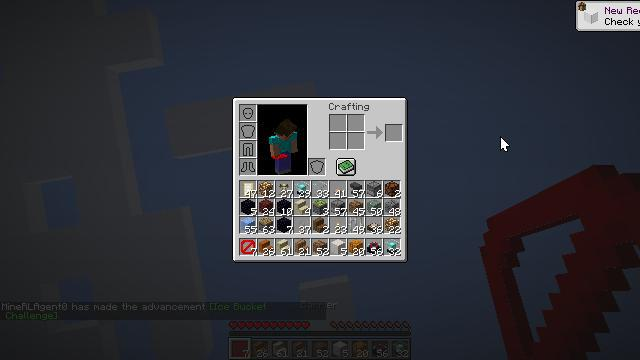cursor: (500, 136, 510, 152)
